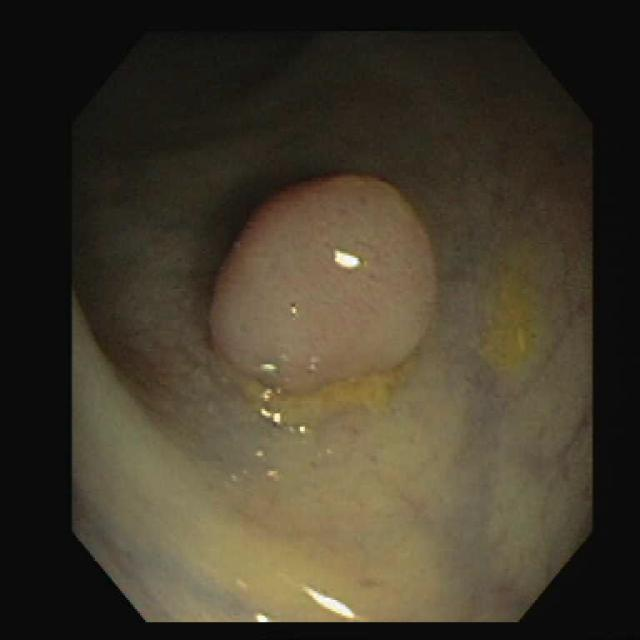tumor: (212, 176, 425, 362)
